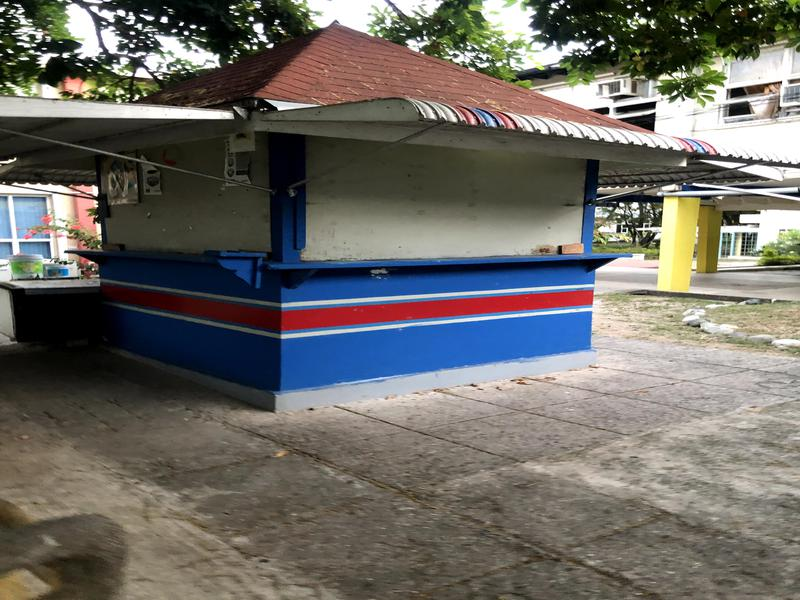18.0050609_-76.7496662_auntyjackie: (42, 1, 723, 438)
